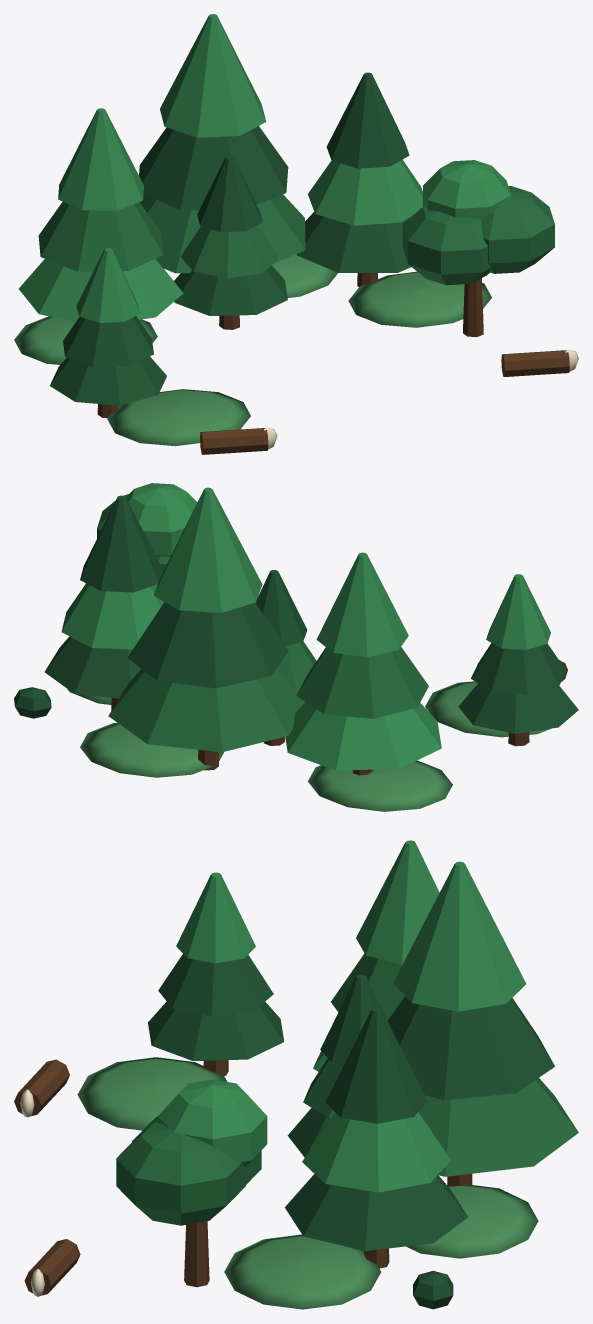
The model's file is terrain-forest-0.glb.
3 renders of one model, top to bottom at view 1: azimuth 30°, elevation 25°; view 2: azimuth 150°, elevation 25°; view 3: azimuth 270°, elevation 25°, orthographic. The views are drawn at different scales.
Parts seen in each view (by area): view 1: terrain-forest-0.003, terrain-forest-0.001, terrain-forest-0.002, terrain-forest-0.004, terrain-forest-0; view 2: terrain-forest-0.001, terrain-forest-0.003, terrain-forest-0.002, terrain-forest-0.004, terrain-forest-0, terrain-forest-0.006; view 3: terrain-forest-0.003, terrain-forest-0.001, terrain-forest-0.002, terrain-forest-0.004, terrain-forest-0, terrain-forest-0.006, terrain-forest-0.005.
Part boxes in pixels (box(x1,y1,x2,y2)): terrain-forest-0.003: box(50, 72, 411, 405); terrain-forest-0.001: box(19, 14, 510, 322); terrain-forest-0.002: box(38, 186, 554, 285); terrain-forest-0.004: box(14, 254, 491, 446); terrain-forest-0: box(97, 273, 569, 454); terrain-forest-0.001: box(61, 483, 550, 770); terrain-forest-0.003: box(44, 495, 578, 733); terrain-forest-0.002: box(97, 494, 428, 752); terrain-forest-0.004: box(67, 681, 550, 811); terrain-forest-0: box(111, 660, 567, 775); terrain-forest-0.006: box(14, 687, 51, 718); terrain-forest-0.003: box(148, 954, 554, 1250); terrain-forest-0.001: box(157, 840, 526, 1192); terrain-forest-0.002: box(116, 953, 578, 1225); terrain-forest-0.004: box(77, 1057, 538, 1309); terrain-forest-0: box(14, 1059, 472, 1295); terrain-forest-0.006: box(413, 1270, 453, 1309); terrain-forest-0.005: box(20, 1089, 44, 1296).
Size of the model in its own units: 1.26 by 0.709 by 1.08.
